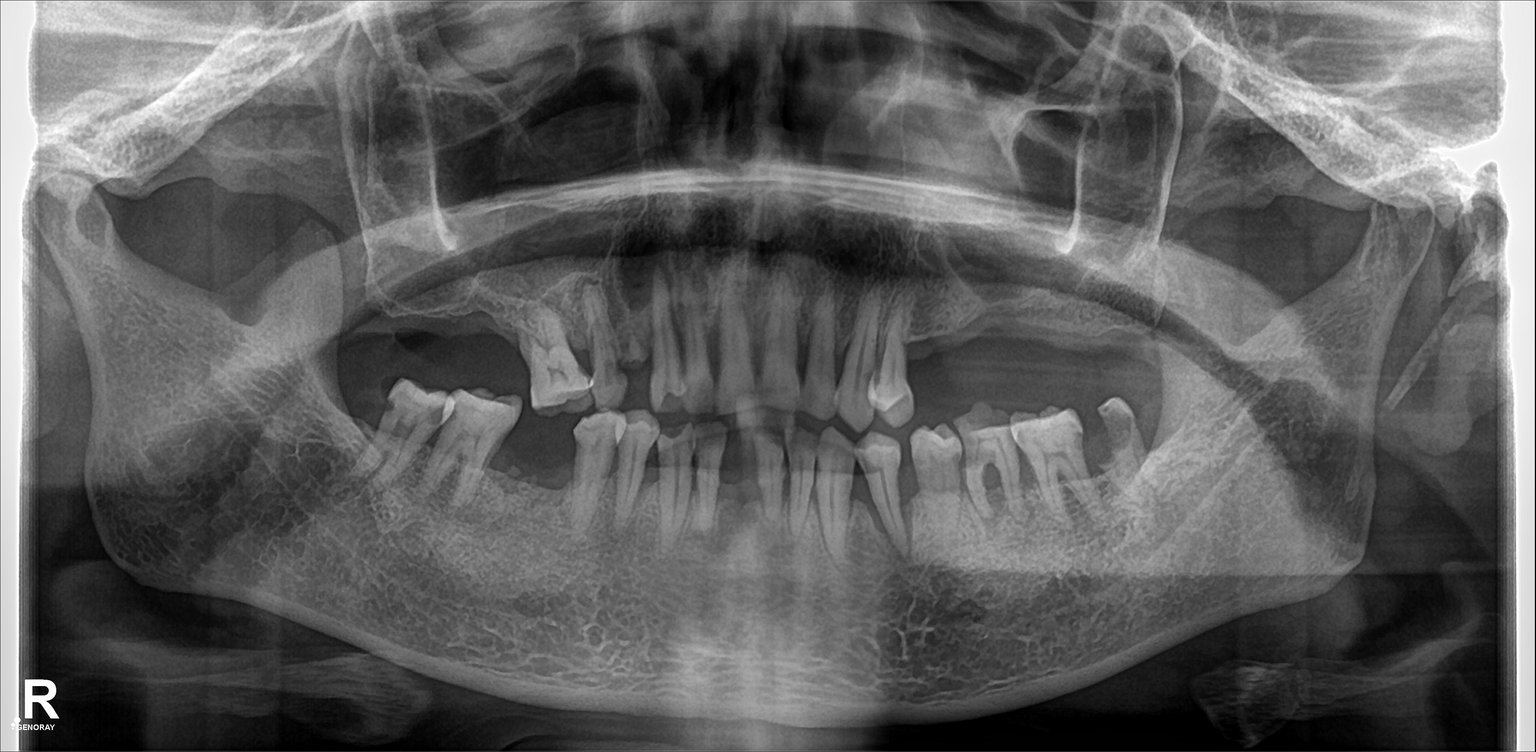Dental Caries: (1080, 411, 1125, 474)
Missing Tooth: (514, 413, 569, 523), (1101, 289, 1152, 396), (1052, 292, 1102, 399), (952, 298, 998, 407), (723, 428, 763, 536), (439, 277, 480, 378), (1006, 292, 1046, 395), (350, 281, 390, 372), (484, 285, 523, 372), (395, 279, 434, 361), (916, 307, 945, 401), (343, 389, 375, 463)
Retained Root: (1095, 402, 1158, 490), (620, 292, 654, 384)
